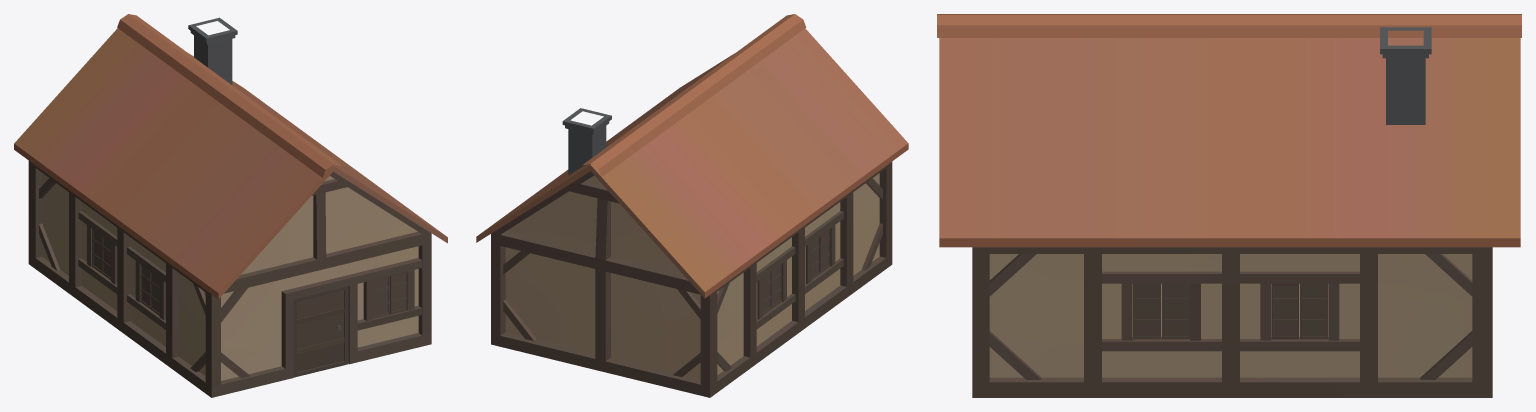
The model's file is house.glb.
3 renders of one model, left to right at view 1: azimuth 30°, elevation 25°; view 2: azimuth 150°, elevation 25°; view 3: azimuth 270°, elevation 25°, orthographic. The views are drawn at different scales.
Visible parts, largest first — view 1: Cottage; view 2: Cottage; view 3: Cottage.
Boxes of the visible parts, bbox=[...] form: Cottage: bbox=[14, 14, 447, 397]; Cottage: bbox=[476, 14, 908, 397]; Cottage: bbox=[937, 14, 1521, 397].
Size of the model in its own units: 0.3 by 0.2763 by 0.4661.
Materials: 1 (1 with a texture image).
